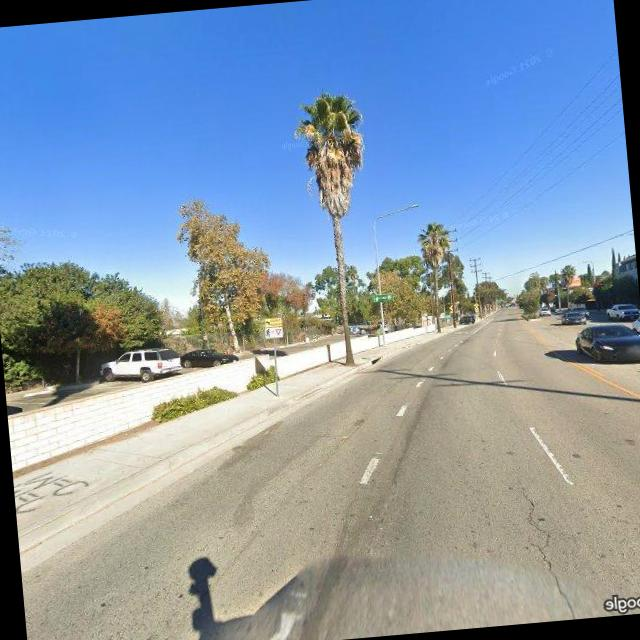pothole: (516, 478, 580, 620)
